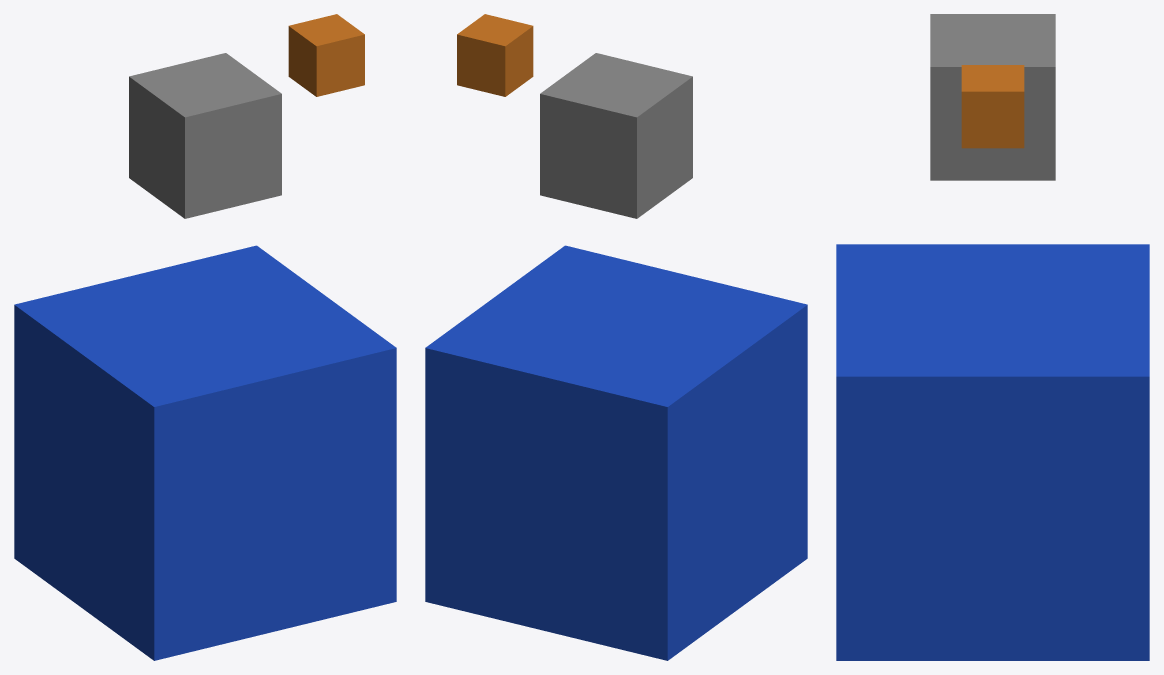
Rendered from blender-nested-edited-scene.glb.
The picture shows the model from 3 angles, left to right: view 1: azimuth 30°, elevation 25°; view 2: azimuth 150°, elevation 25°; view 3: azimuth 270°, elevation 25°; orthographic projection. The views are drawn at different scales.
Visible parts, largest first — view 1: rig/body, arm/body, tip/body; view 2: rig/body, arm/body, tip/body; view 3: rig/body, arm/body, tip/body.
Part boxes in pixels (x1,y1,x2,y2): rig/body: (14,245,396,660); arm/body: (129,53,281,218); tip/body: (288,14,364,96); rig/body: (425,245,807,660); arm/body: (540,53,692,218); tip/body: (457,14,533,96); rig/body: (836,244,1149,660); arm/body: (930,14,1055,180); tip/body: (961,65,1024,148).
Size of the model in its own units: 1.1 by 2.05 by 1.
